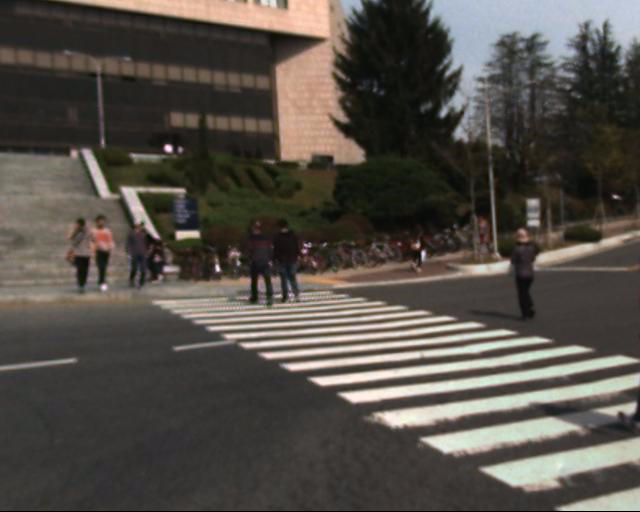person: (502, 221, 557, 327), (237, 217, 287, 314), (266, 211, 310, 318), (60, 208, 109, 302), (87, 204, 122, 298), (128, 210, 162, 296), (403, 221, 438, 285), (466, 203, 503, 260), (142, 224, 171, 291)
